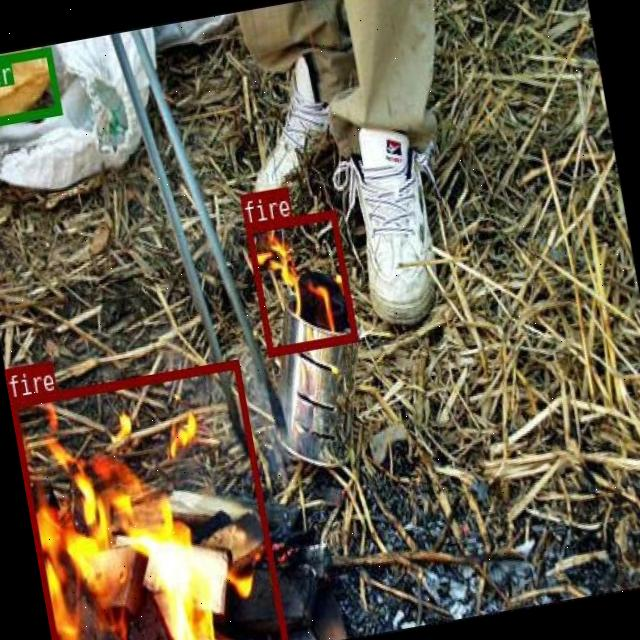fire: (8, 357, 286, 640), (245, 209, 356, 354)
